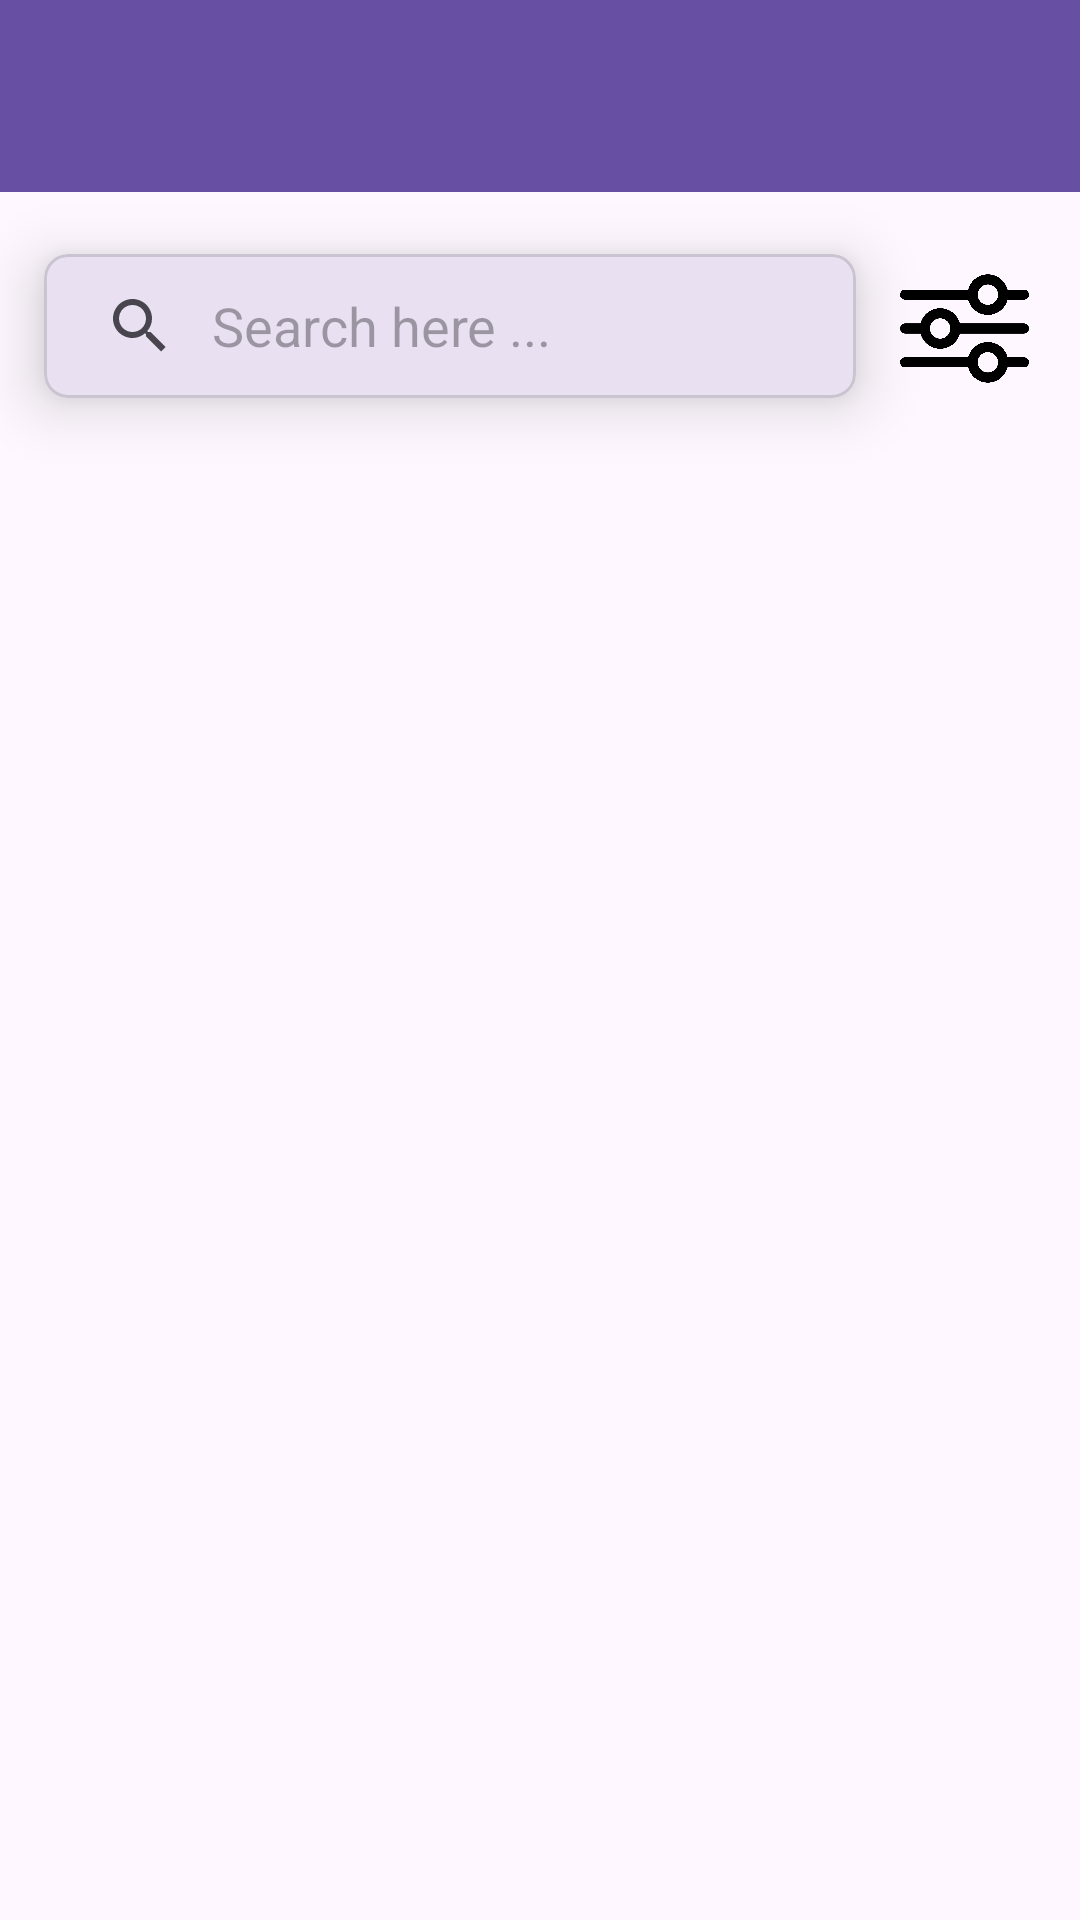

Icon bounding boxes for this 1080×1920 phone screenshot, format [x1,y1,x2,y2]:
filter: [900,274,1029,383]
